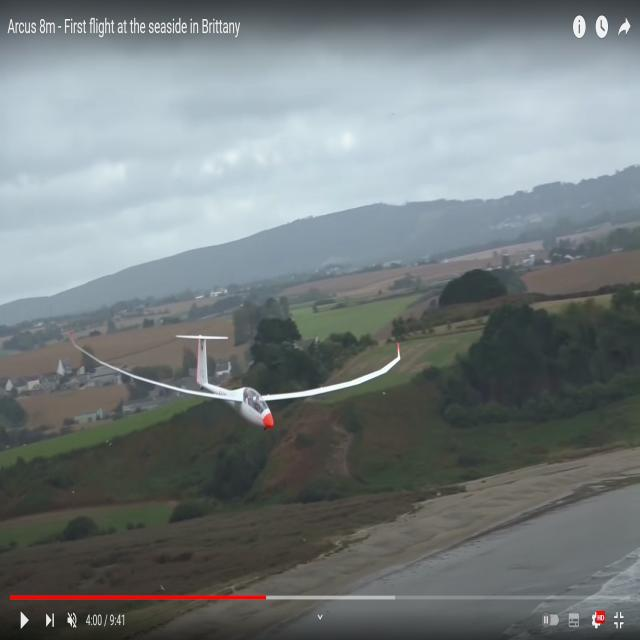iha: (78, 366, 401, 403)
